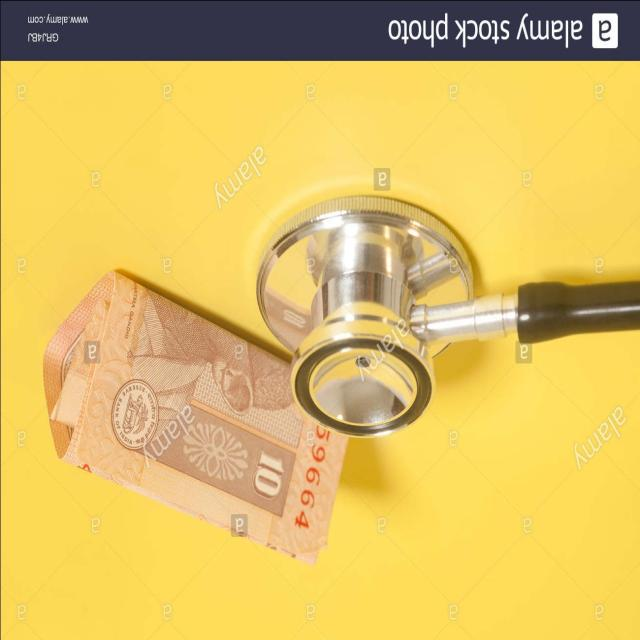10IndianRupees: (42, 242, 344, 557)
